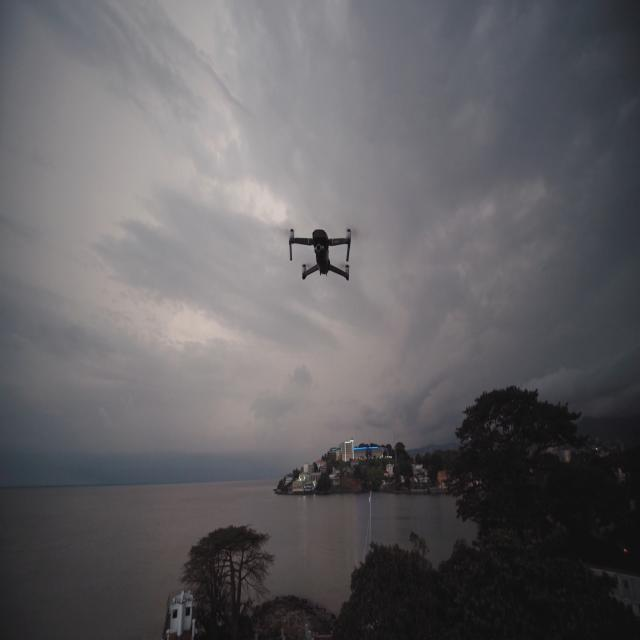drone: (288, 226, 352, 282)
